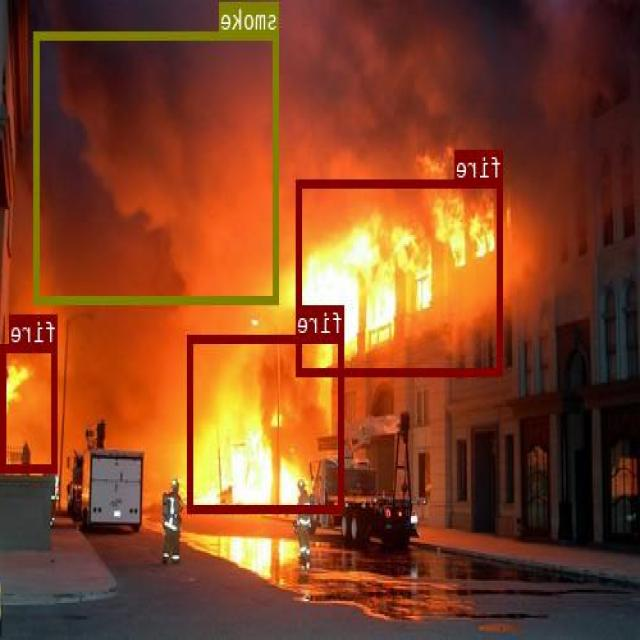fire: (297, 178, 503, 374), (188, 334, 345, 512), (2, 344, 58, 469)
smoke: (34, 30, 280, 302)
